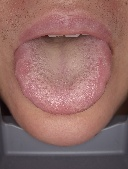tongue: (13, 42, 112, 116)
